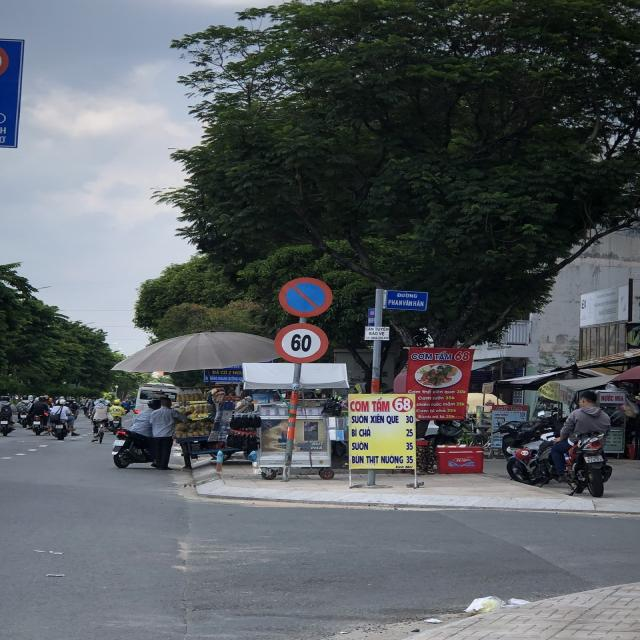Bien bao cam do xe: (275, 273, 336, 321)
Bien bao toc do toi da cho phep: (275, 320, 333, 362)
